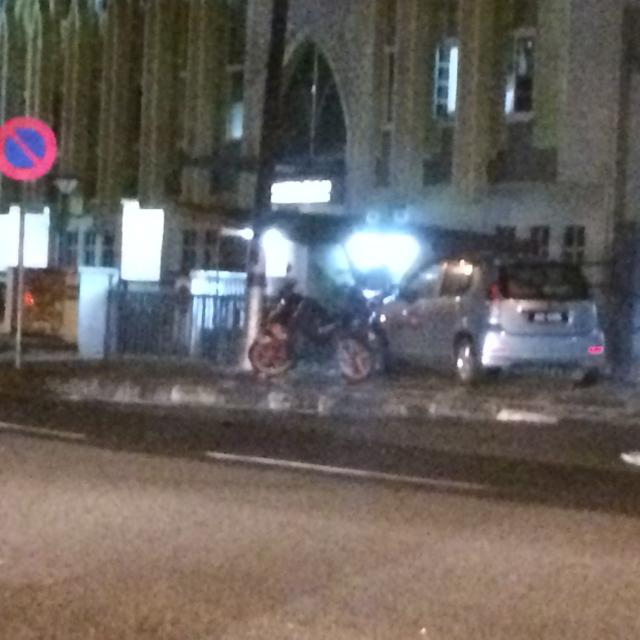Motorbike: (229, 262, 410, 391)
